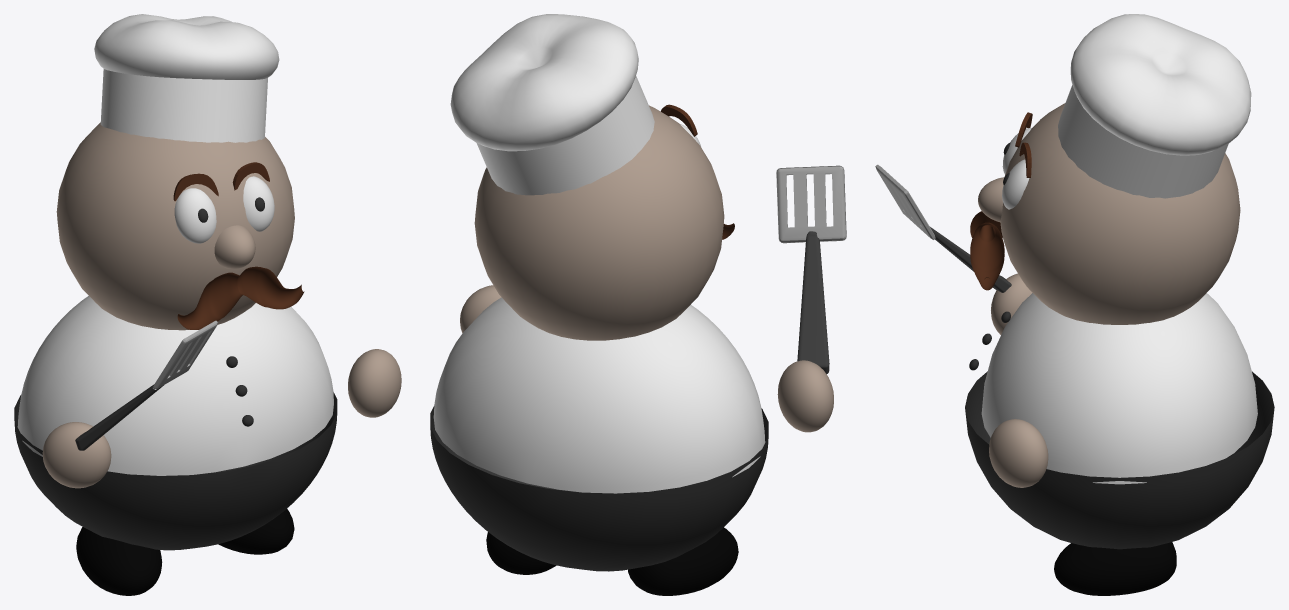
The model's file is NewChef2.fbx.
The picture shows the model from 3 angles, left to right: view 1: azimuth 30°, elevation 25°; view 2: azimuth 150°, elevation 25°; view 3: azimuth 270°, elevation 25°; orthographic projection. The views are drawn at different scales.
Parts seen in each view (by area): view 1: Body, Head, nurbsSphere16, nurbsCylinder1, nurbsSphere3, RightShoe, RightHand, RightHand1, loftedSurface2, loftedSurface1, nurbsSphere5, LeftShoe (+5 smaller); view 2: Body, Head, nurbsSphere16, nurbsSphere3, nurbsCylinder1, pCube9, RightShoe, RightHand, pCube2, LeftShoe, RightHand1; view 3: Body, Head, nurbsSphere3, nurbsSphere16, nurbsCylinder1, LeftShoe, RightHand1, loftedSurface1, RightHand, pCube9, Nose, nurbsSphere6 (+2 smaller).
Boxes of the visible parts, x1,y1,x2,y2 form: Body: (17, 296, 333, 475); Head: (56, 122, 294, 330); nurbsSphere16: (14, 392, 337, 550); nurbsCylinder1: (100, 69, 267, 142); nurbsSphere3: (94, 14, 279, 79); RightShoe: (76, 527, 162, 595); RightHand: (42, 422, 111, 488); RightHand1: (348, 349, 401, 417); loftedSurface2: (177, 272, 242, 329); loftedSurface1: (237, 266, 304, 309); nurbsSphere5: (174, 188, 216, 243); LeftShoe: (218, 508, 294, 554); Body: (433, 297, 765, 493); Head: (474, 105, 724, 340); nurbsSphere16: (430, 406, 768, 571); nurbsSphere3: (450, 14, 638, 151); nurbsCylinder1: (476, 76, 654, 195); pCube9: (776, 165, 846, 243); RightShoe: (628, 527, 738, 595); RightHand: (777, 360, 833, 432); pCube2: (797, 231, 829, 374); LeftShoe: (486, 532, 556, 574); RightHand1: (460, 285, 501, 333); Body: (981, 293, 1257, 484); Head: (1000, 103, 1240, 324); nurbsSphere3: (1070, 14, 1251, 155); nurbsSphere16: (965, 371, 1274, 549); nurbsCylinder1: (1058, 85, 1228, 198); LeftShoe: (1054, 542, 1176, 595); RightHand1: (989, 419, 1048, 487); loftedSurface1: (970, 222, 1004, 290); RightHand: (991, 273, 1032, 334); pCube9: (875, 164, 935, 239); Nose: (978, 177, 1004, 222); nurbsSphere6: (1002, 159, 1029, 209).
Size of the model in its own units: 2.98 by 4.29 by 2.9.
